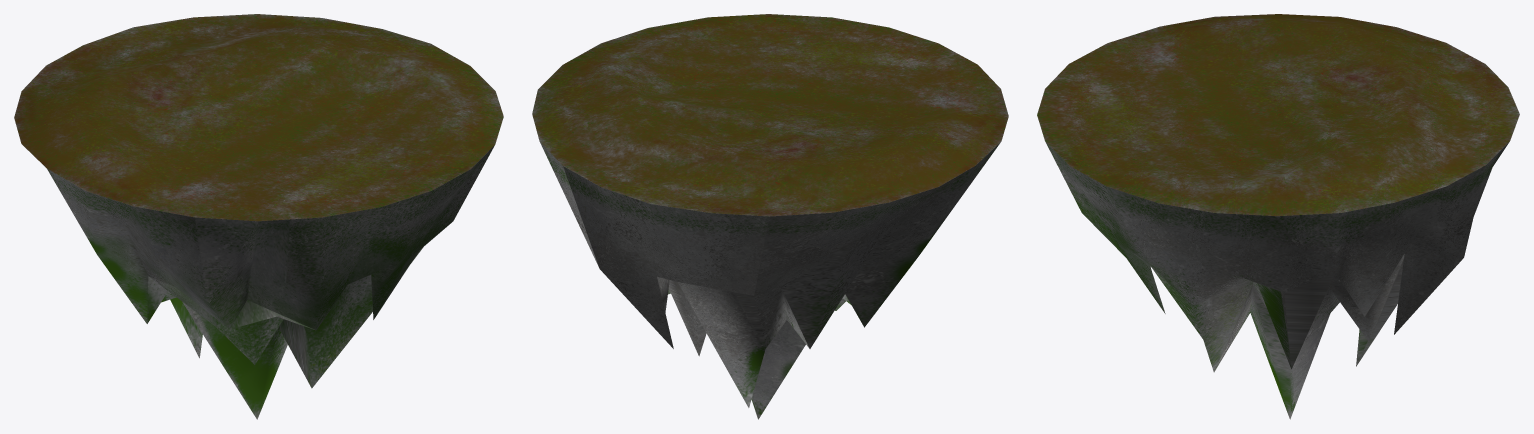
File: ChaosZooFloatingIsLand.fbx
3 views of the same model, side by side, from view 1: azimuth 30°, elevation 25°; view 2: azimuth 150°, elevation 25°; view 3: azimuth 270°, elevation 25° (orthographic). The views are drawn at different scales.
Parts seen in each view (by area): view 1: pCube1; view 2: pCube1; view 3: pCube1.
Boxes of the visible parts, x1,y1,x2,y2 form: pCube1: [14, 14, 503, 419]; pCube1: [532, 14, 1008, 419]; pCube1: [1037, 14, 1519, 419].
Bounding box in the file's own units: 123 × 90.92 × 124.
